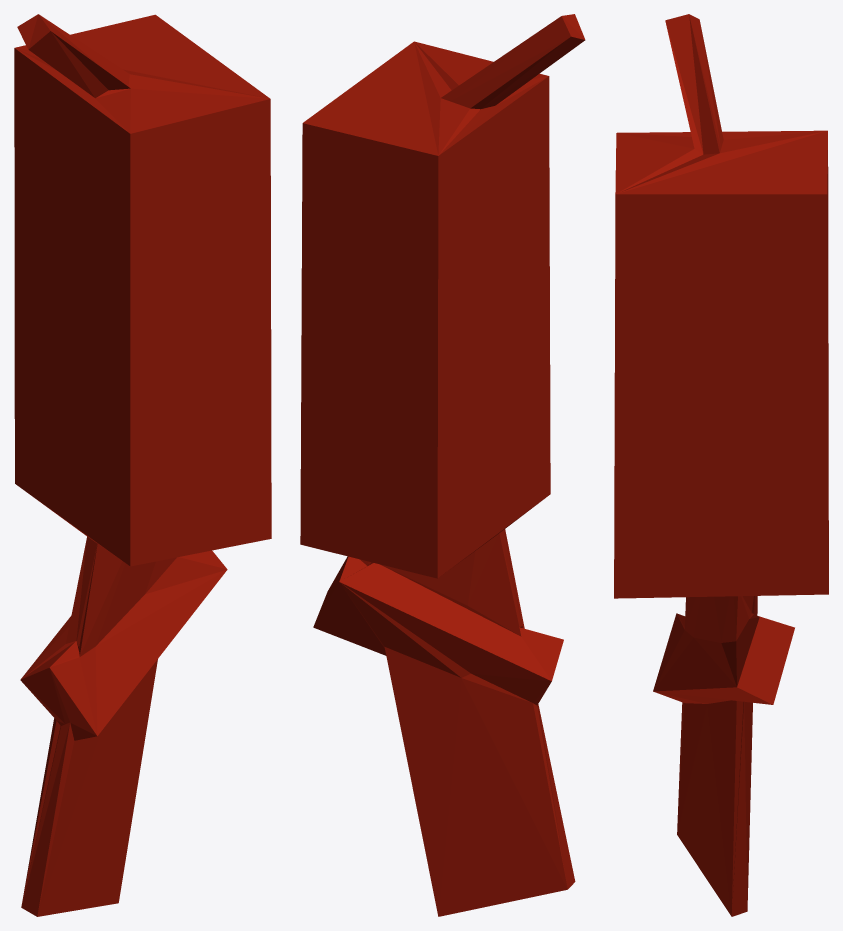
3 renders of one model, left to right at view 1: azimuth 30°, elevation 25°; view 2: azimuth 150°, elevation 25°; view 3: azimuth 270°, elevation 25°, orthographic. The views are drawn at different scales.
Parts seen in each view (by area): view 1: 314_Cube.1285; view 2: 314_Cube.1285; view 3: 314_Cube.1285.
Boxes of the visible parts, x1,y1,x2,y2 form: 314_Cube.1285: (14, 14, 271, 916); 314_Cube.1285: (300, 14, 585, 916); 314_Cube.1285: (614, 14, 828, 916).
Size of the model in its own units: 6.67 by 25.52 by 5.8.
